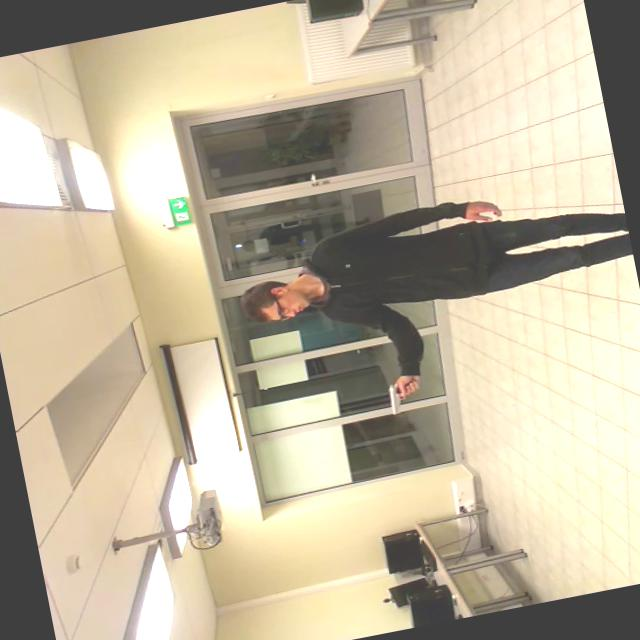handgun: (374, 368, 428, 420)
